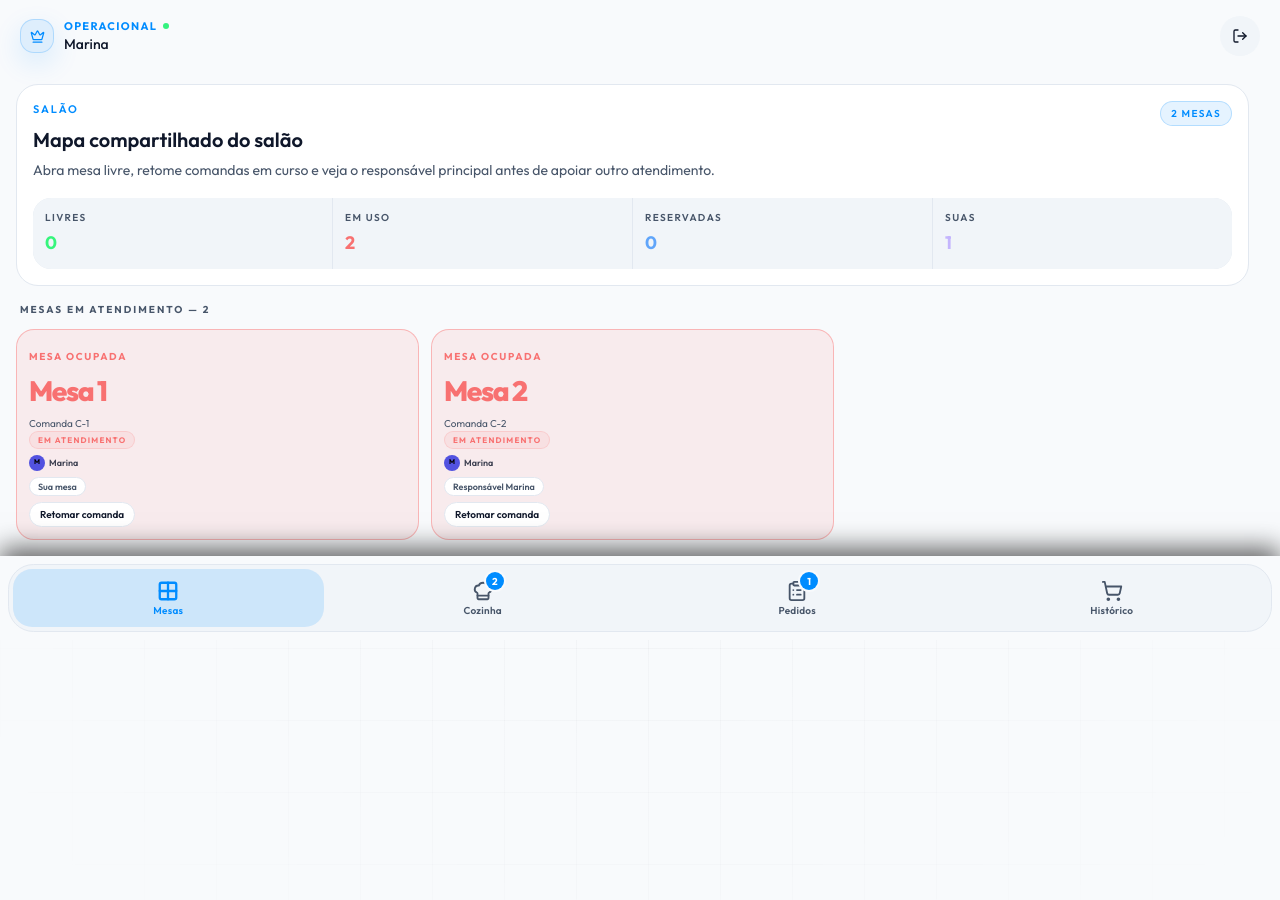
Test: StaffMobileShell › mostra a cozinha compartilhada do salão com responsável visível
This screenshot has width=1280, height=900.
Click the button with test id "nav-cozinha".
click(483, 598)  # box [328,569,638,627]
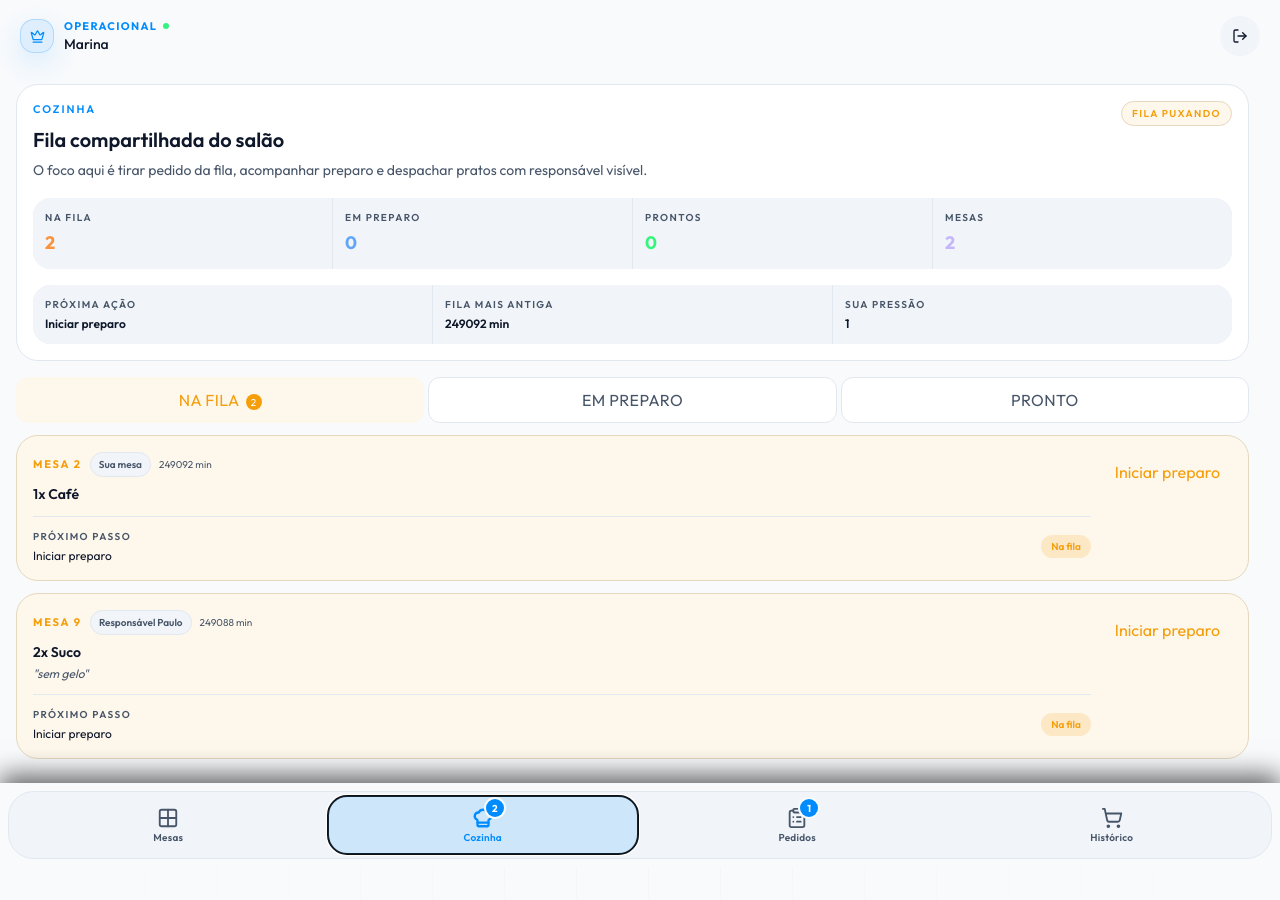
expect the text "Sua mesa" is shown: met, box [90,452,151,476]
expect the heading "Fila compartilhada do salão" is shown: met, box [33,126,284,152]
expect the text "Responsável Paulo" is shown: met, box [90,610,192,635]
